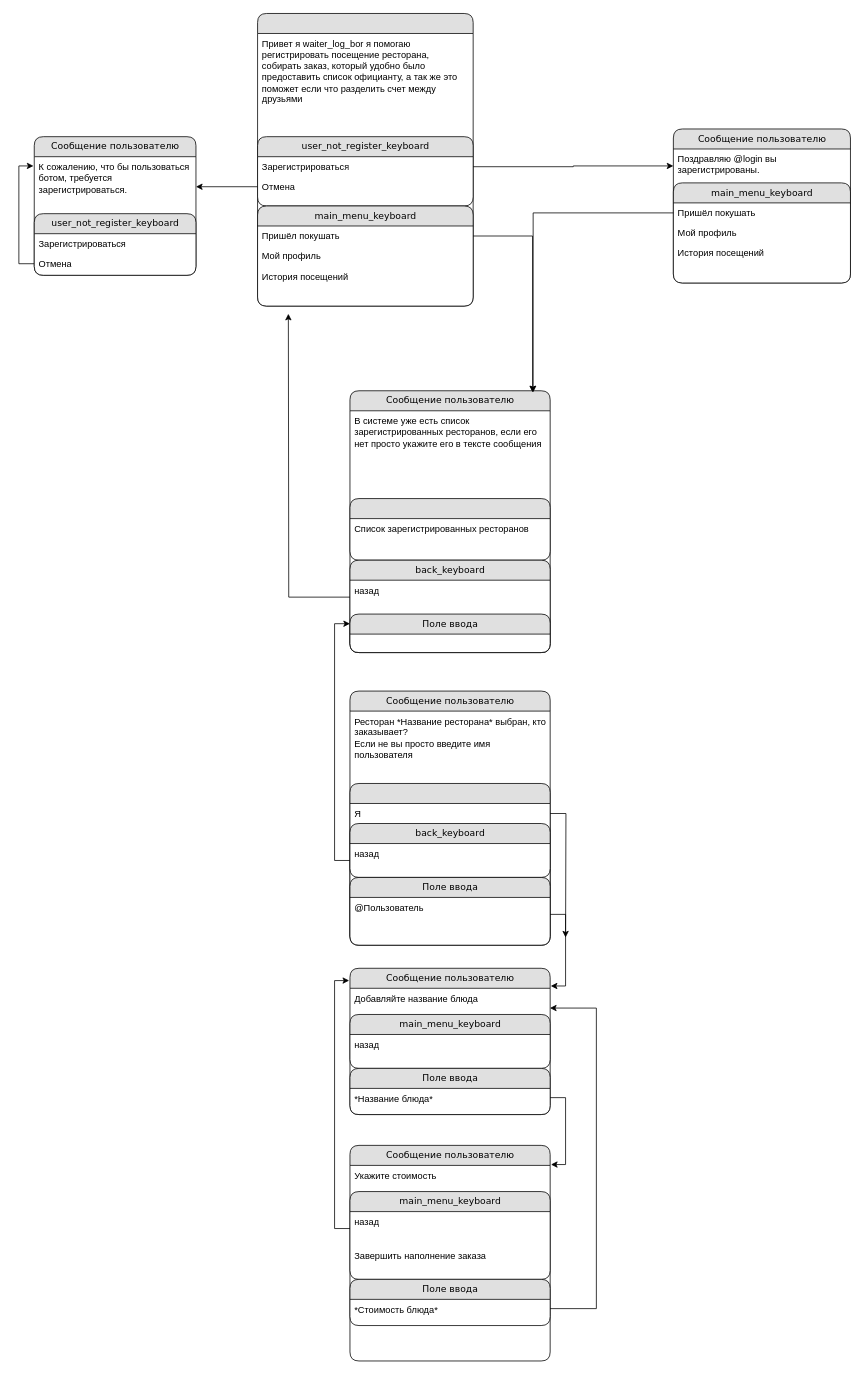
This 864x1374 diagram has some shape labels left out. Here are the shapes that lost their labels. From the top down, the box of each, then its label:
(257, 13, 473, 306): /start
(349, 498, 550, 560): restaurant _inline_keyboard
(349, 783, 550, 945): users_inline_keyboard
